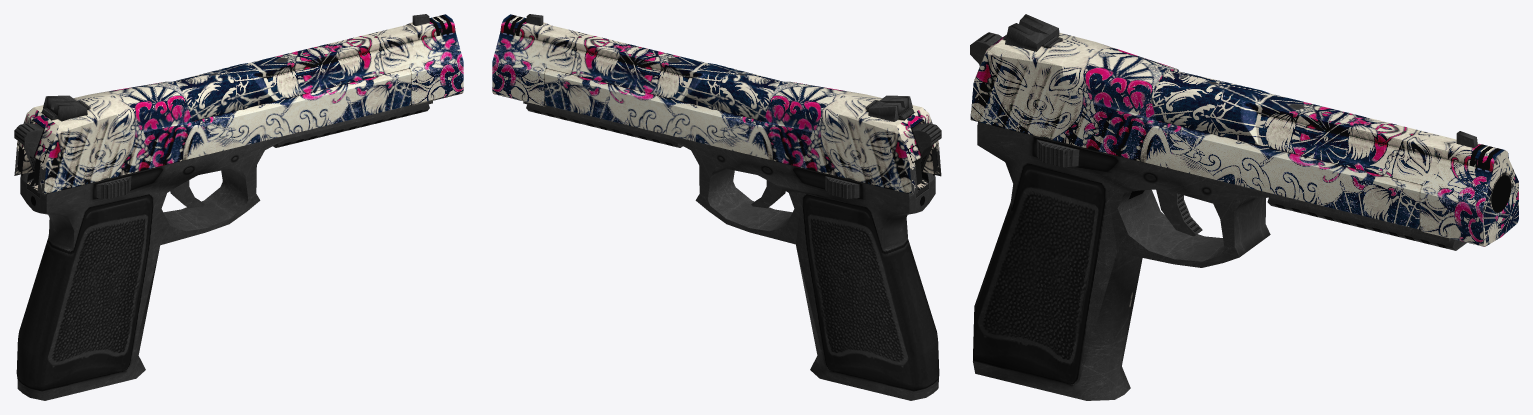
Rendered from pistol50_skin.glb.
3 renders of one model, left to right at view 1: azimuth 30°, elevation 25°; view 2: azimuth 150°, elevation 25°; view 3: azimuth 330°, elevation 25°, orthographic. The views are drawn at different scales.
Visible parts, largest first — view 1: Gun_Root; view 2: Gun_Root; view 3: Gun_Root.
Boxes of the visible parts, bbox=[...] form: Gun_Root: bbox=[14, 14, 463, 400]; Gun_Root: bbox=[492, 14, 941, 400]; Gun_Root: bbox=[970, 14, 1518, 400].
Size of the model in its own units: 0.2573 by 0.1631 by 0.0371.
1 material, 1 textured.
